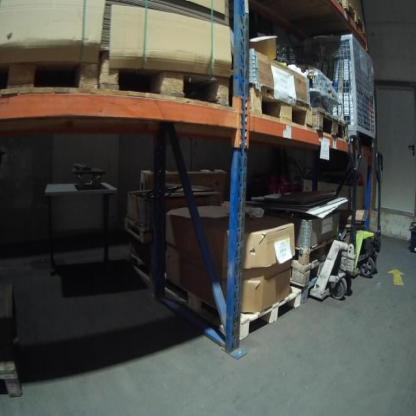pallet: (162, 274, 301, 342), (97, 49, 234, 114), (0, 52, 101, 101), (245, 84, 313, 133), (311, 106, 349, 143), (293, 241, 337, 266), (340, 0, 366, 36), (124, 215, 155, 244)
pallet_truck: (302, 130, 368, 304), (355, 148, 394, 274)
stillage: (292, 26, 380, 144)
